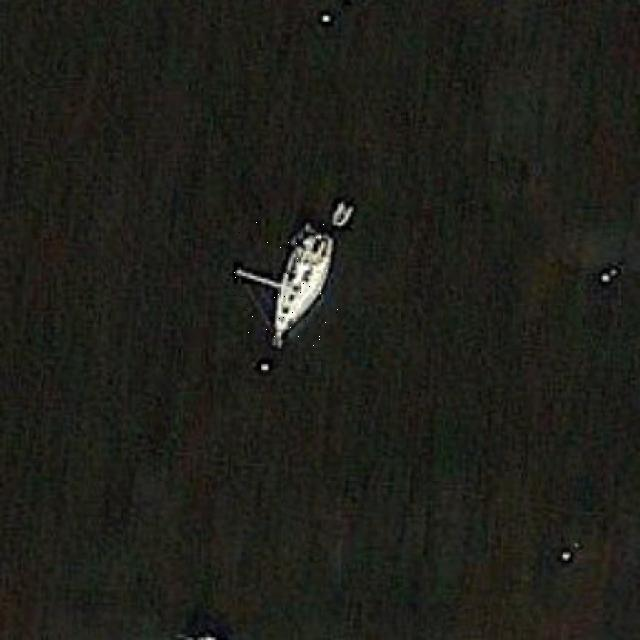boat: (234, 219, 338, 349)
